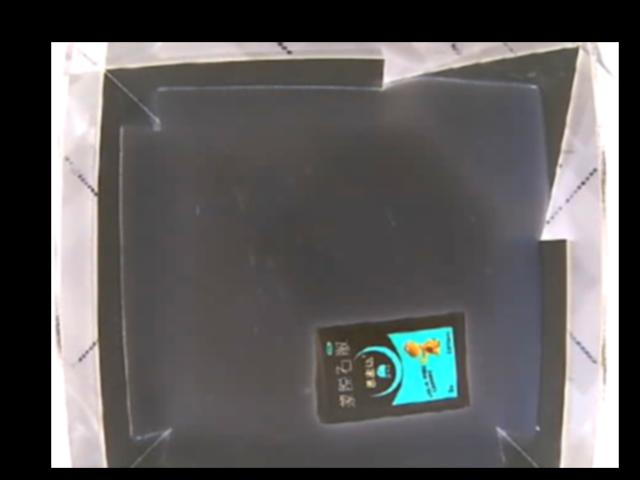Medicine: (313, 308, 470, 424)
